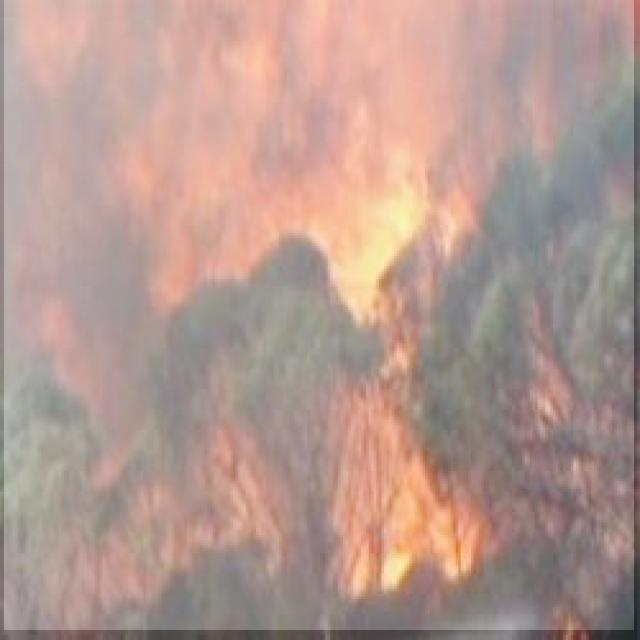Fire: (4, 0, 634, 630)
